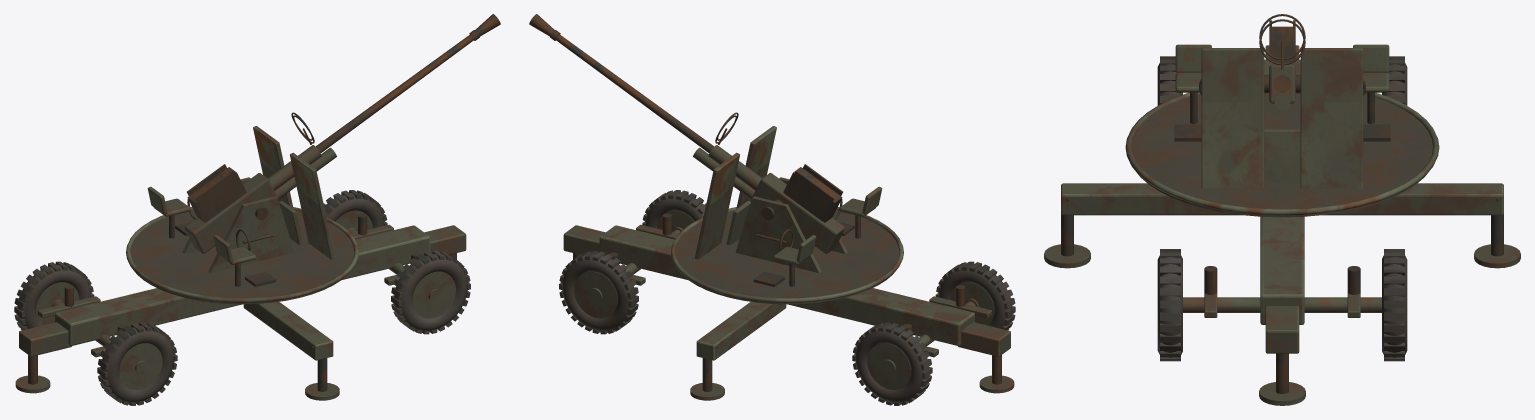
The picture shows the model from 3 angles, left to right: view 1: azimuth 30°, elevation 25°; view 2: azimuth 150°, elevation 25°; view 3: azimuth 270°, elevation 25°; orthographic projection. The views are drawn at different scales.
Visible parts, largest first — view 1: K61_baked; view 2: K61_baked; view 3: K61_baked.
Boxes of the visible parts, x1,y1,x2,y2 form: K61_baked: [14, 14, 500, 405]; K61_baked: [529, 14, 1015, 405]; K61_baked: [1044, 14, 1520, 405].
Bounding box in the file's own units: 5.74 × 2.96 × 3.66.
1 material, 1 textured.
